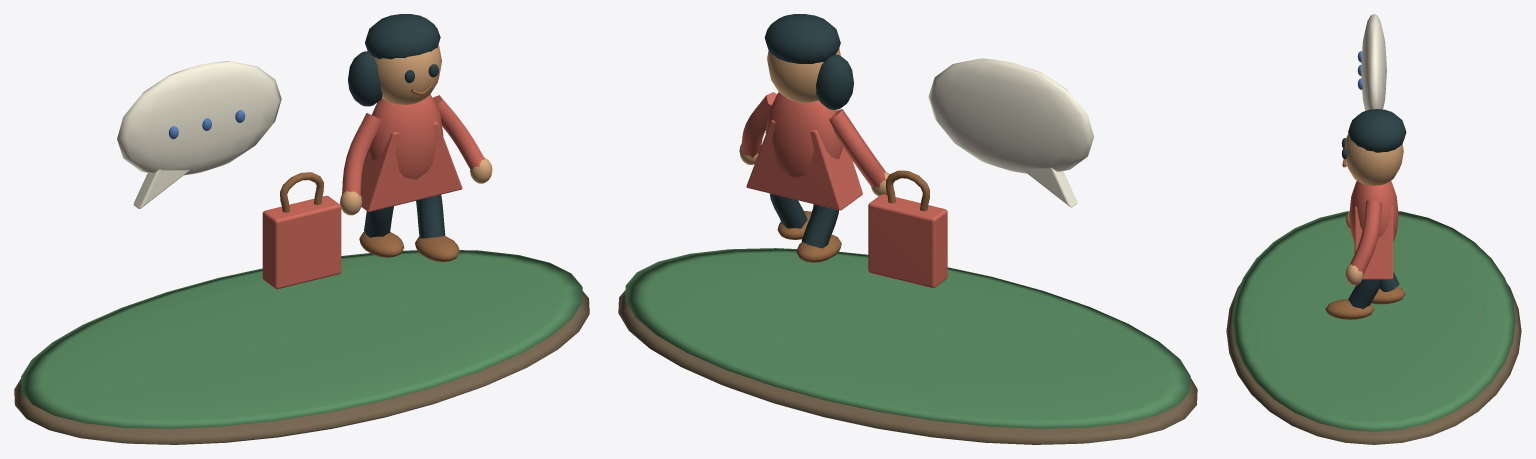
File: complete-second-auntie-call.glb
3 views of the same model, side by side, from view 1: azimuth 30°, elevation 25°; view 2: azimuth 150°, elevation 25°; view 3: azimuth 270°, elevation 25° (orthographic). The views are drawn at different scales.
Parts seen in each view (by area): view 1: complete-second-auntie-call_surface_01, complete-second-auntie-call_surface_07, complete-second-auntie-call_surface_02, complete-second-auntie-call_surface_00, complete-second-auntie-call_surface_05, complete-second-auntie-call_surface_04, complete-second-auntie-call_surface_06; view 2: complete-second-auntie-call_surface_01, complete-second-auntie-call_surface_07, complete-second-auntie-call_surface_02, complete-second-auntie-call_surface_00, complete-second-auntie-call_surface_05, complete-second-auntie-call_surface_04, complete-second-auntie-call_surface_06; view 3: complete-second-auntie-call_surface_01, complete-second-auntie-call_surface_00, complete-second-auntie-call_surface_07, complete-second-auntie-call_surface_05, complete-second-auntie-call_surface_04, complete-second-auntie-call_surface_02, complete-second-auntie-call_surface_06.
Boxes of the visible parts, x1=… form: complete-second-auntie-call_surface_01: x1=21, y1=250, x2=582, y2=428; complete-second-auntie-call_surface_07: x1=262, y1=94, x2=484, y2=289; complete-second-auntie-call_surface_02: x1=117, y1=61, x2=281, y2=208; complete-second-auntie-call_surface_00: x1=14, y1=291, x2=589, y2=444; complete-second-auntie-call_surface_05: x1=348, y1=14, x2=445, y2=238; complete-second-auntie-call_surface_04: x1=340, y1=45, x2=492, y2=215; complete-second-auntie-call_surface_06: x1=280, y1=85, x2=459, y2=262; complete-second-auntie-call_surface_01: x1=625, y1=248, x2=1190, y2=428; complete-second-auntie-call_surface_07: x1=741, y1=92, x2=947, y2=288; complete-second-auntie-call_surface_02: x1=928, y1=58, x2=1093, y2=207; complete-second-auntie-call_surface_00: x1=618, y1=290, x2=1197, y2=444; complete-second-auntie-call_surface_05: x1=764, y1=14, x2=853, y2=248; complete-second-auntie-call_surface_04: x1=739, y1=48, x2=889, y2=196; complete-second-auntie-call_surface_06: x1=777, y1=170, x2=929, y2=262; complete-second-auntie-call_surface_01: x1=1232, y1=211, x2=1515, y2=431; complete-second-auntie-call_surface_00: x1=1226, y1=283, x2=1521, y2=444; complete-second-auntie-call_surface_07: x1=1349, y1=181, x2=1398, y2=279; complete-second-auntie-call_surface_05: x1=1341, y1=109, x2=1406, y2=308; complete-second-auntie-call_surface_04: x1=1344, y1=134, x2=1403, y2=285; complete-second-auntie-call_surface_02: x1=1361, y1=14, x2=1386, y2=110; complete-second-auntie-call_surface_06: x1=1325, y1=159, x2=1405, y2=319.
Size of the model in its own units: 4.56 by 2.6 by 2.5.
